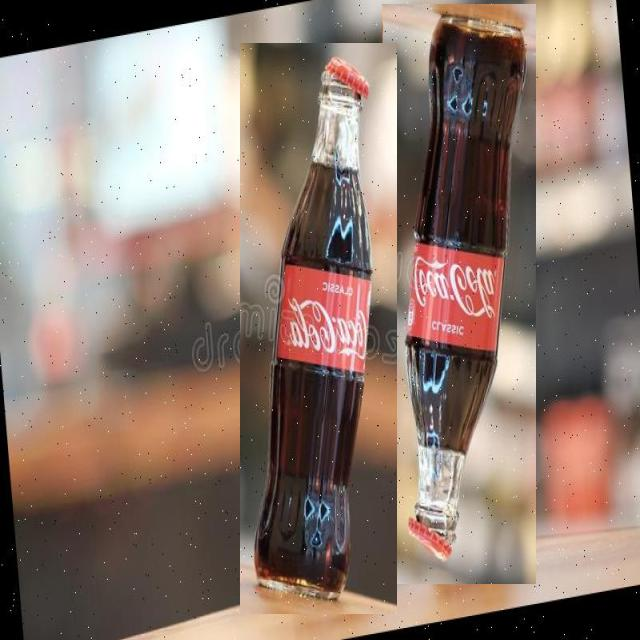coca-cola: (240, 43, 397, 614), (382, 4, 536, 584)
